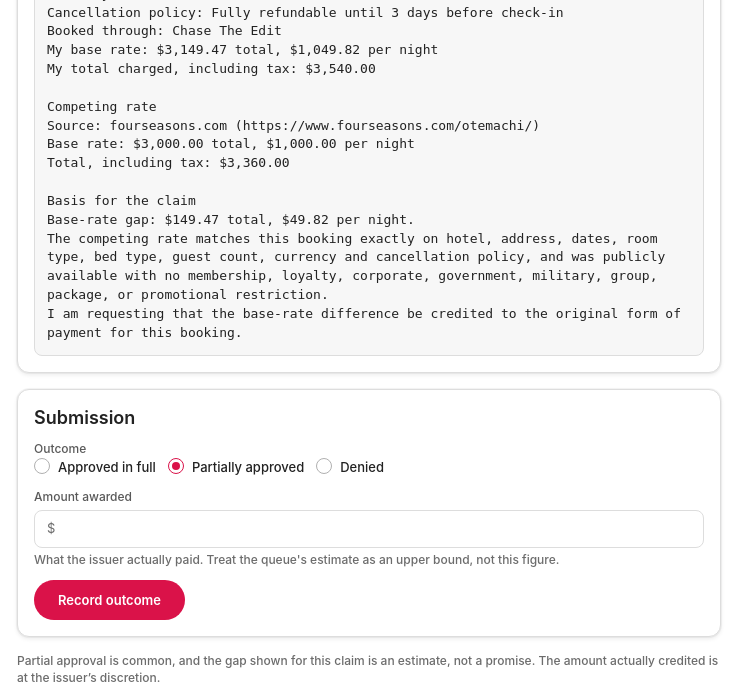
Test case: <ClaimKit /> — §7.4 checklist-first order › reveals the structured denial-reason picker only once "Denied" is chosen
(page scrolled)
Click the radio button named "Denied" next to "Denied": (324, 466) x1=316 y1=458 x2=332 y2=474
(page scrolled)
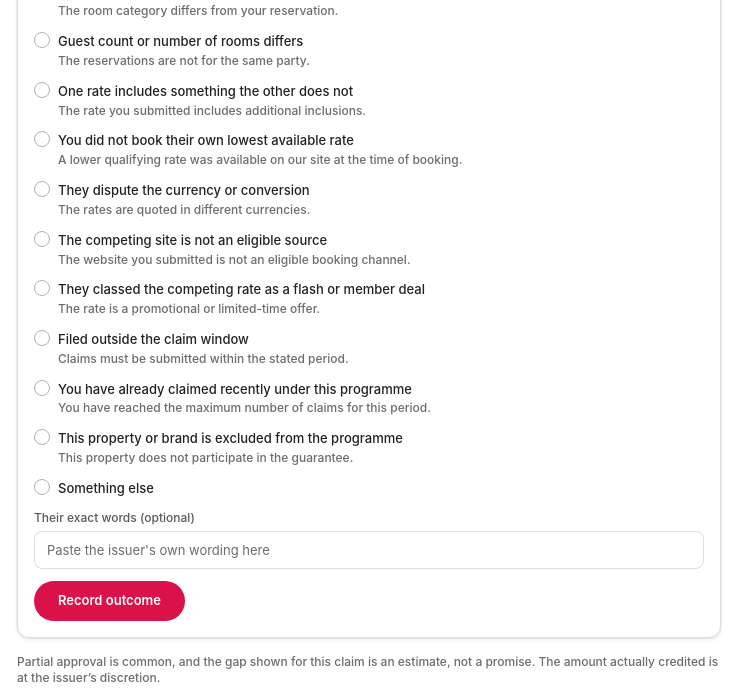
expect the field labelled "Their exact words (optional)" is shown: met, box x1=47 y1=532 x2=691 y2=568
